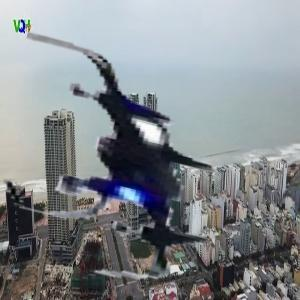drone: (1, 42, 240, 281)
